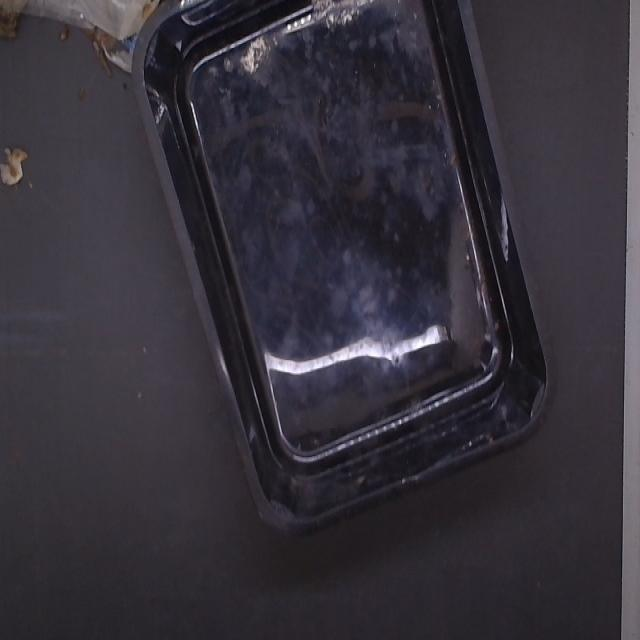food_packaging: (114, 0, 600, 561)
plastic_films: (14, 0, 159, 72)
